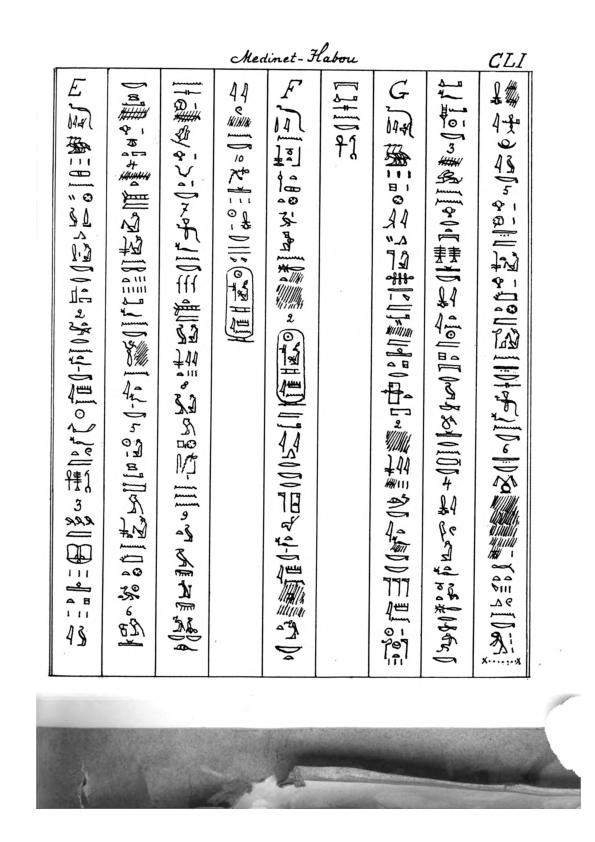circle: (274, 326, 309, 407), (224, 265, 256, 344)
